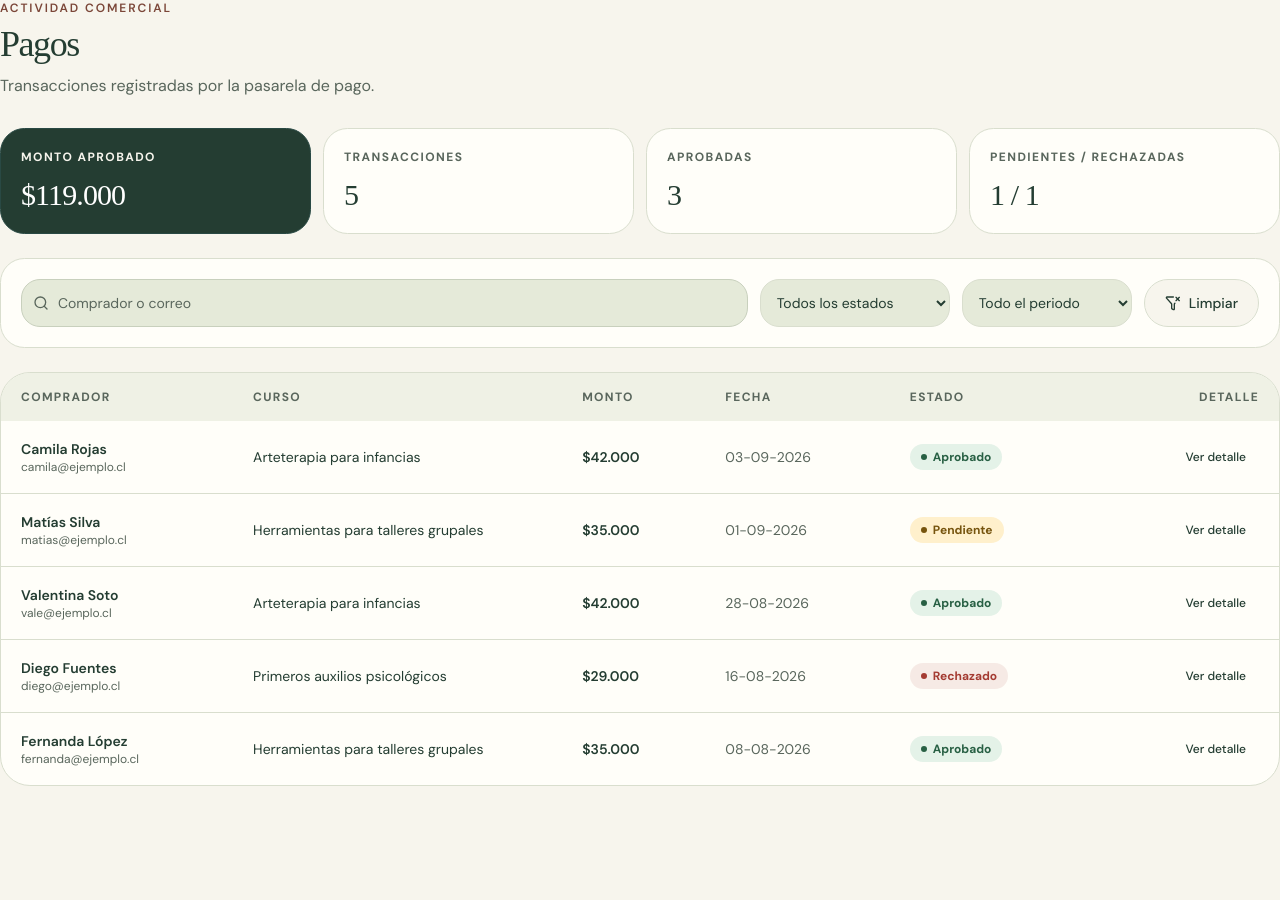
Test: PaymentsPanel › opens complete payment detail without demo labeling on live data
Click the button "Ver detalle" in the row of "Camila Rojas": (1216, 457) [1172,437,1259,477]
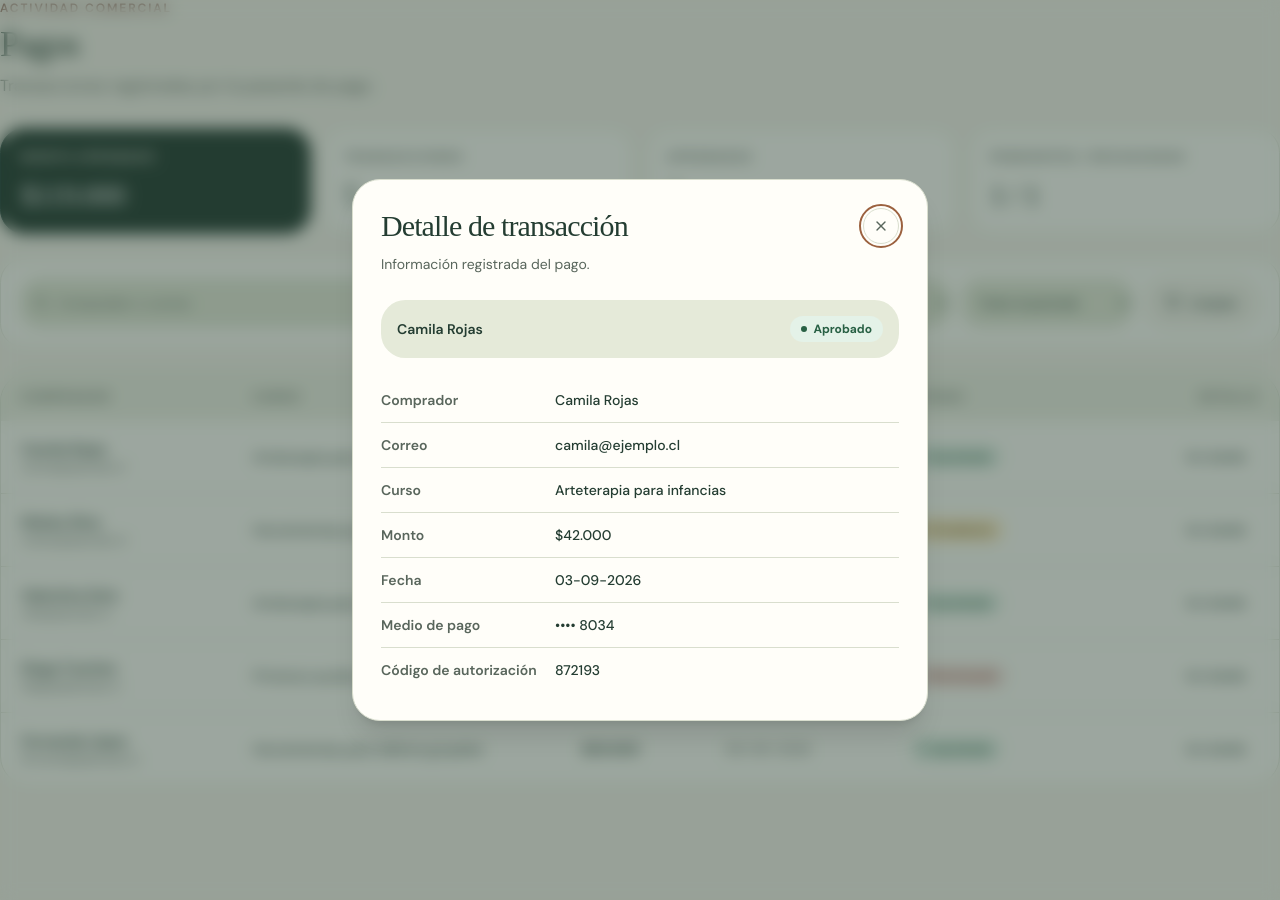
Now the dialog "Detalle de transacción" shows "•••• 8034", box [555,616,614,634]
Now the dialog "Detalle de transacción" shows "872193", box [555,661,600,679]
Now the dialog "Detalle de transacción" shows "Información registrada del pago.", box [381,255,590,273]
